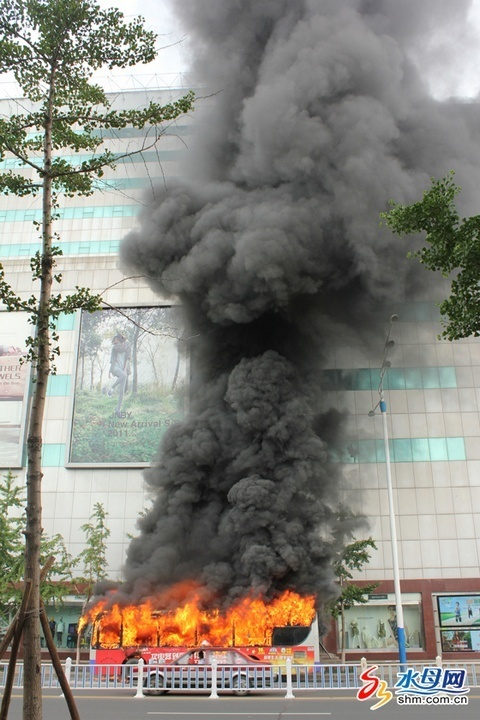fire: (79, 587, 319, 651)
